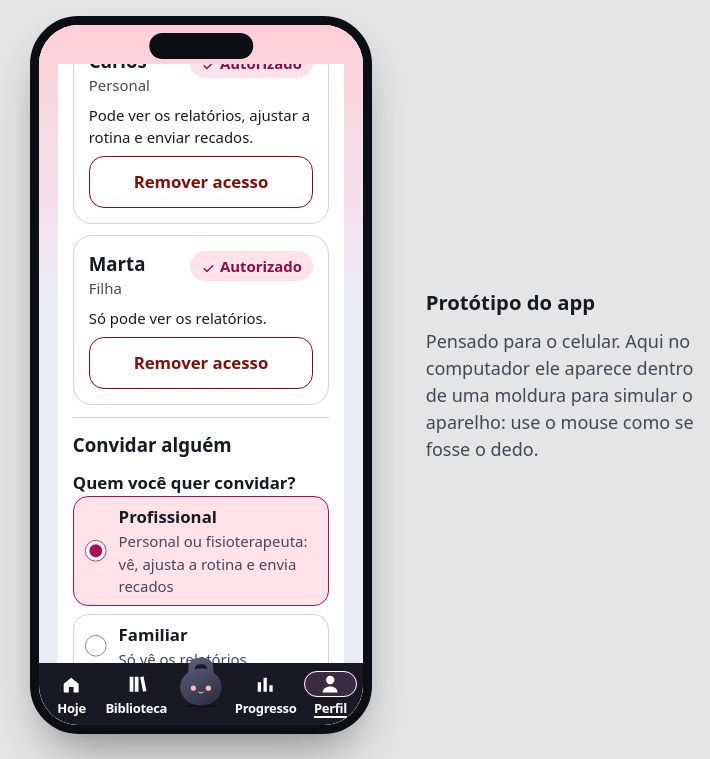
Test: acompanhantes › cancelar a confirmação mantém o acesso
The image size is (710, 759).
(page scrolled)
Click the button with aria-label "Remover acesso de Marta" at (201, 363), box 89,337 -> 313,390
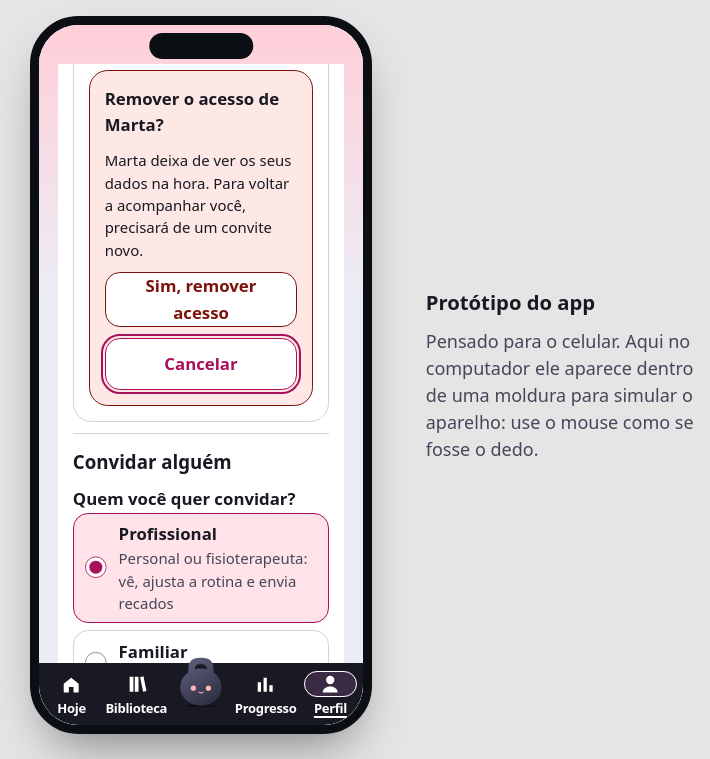
Click the button "Cancelar" at (201, 364), box 105,338 -> 297,390
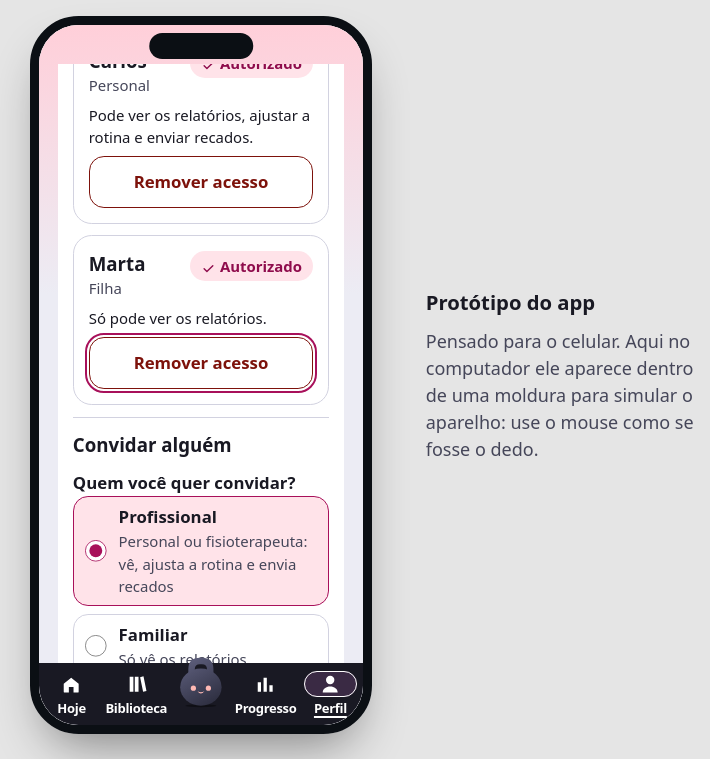
Expected: the text "Remover o acesso" is gone
Expected: the button with aria-label "Remover acesso de Marta" is shown, 89,337 -> 313,390
